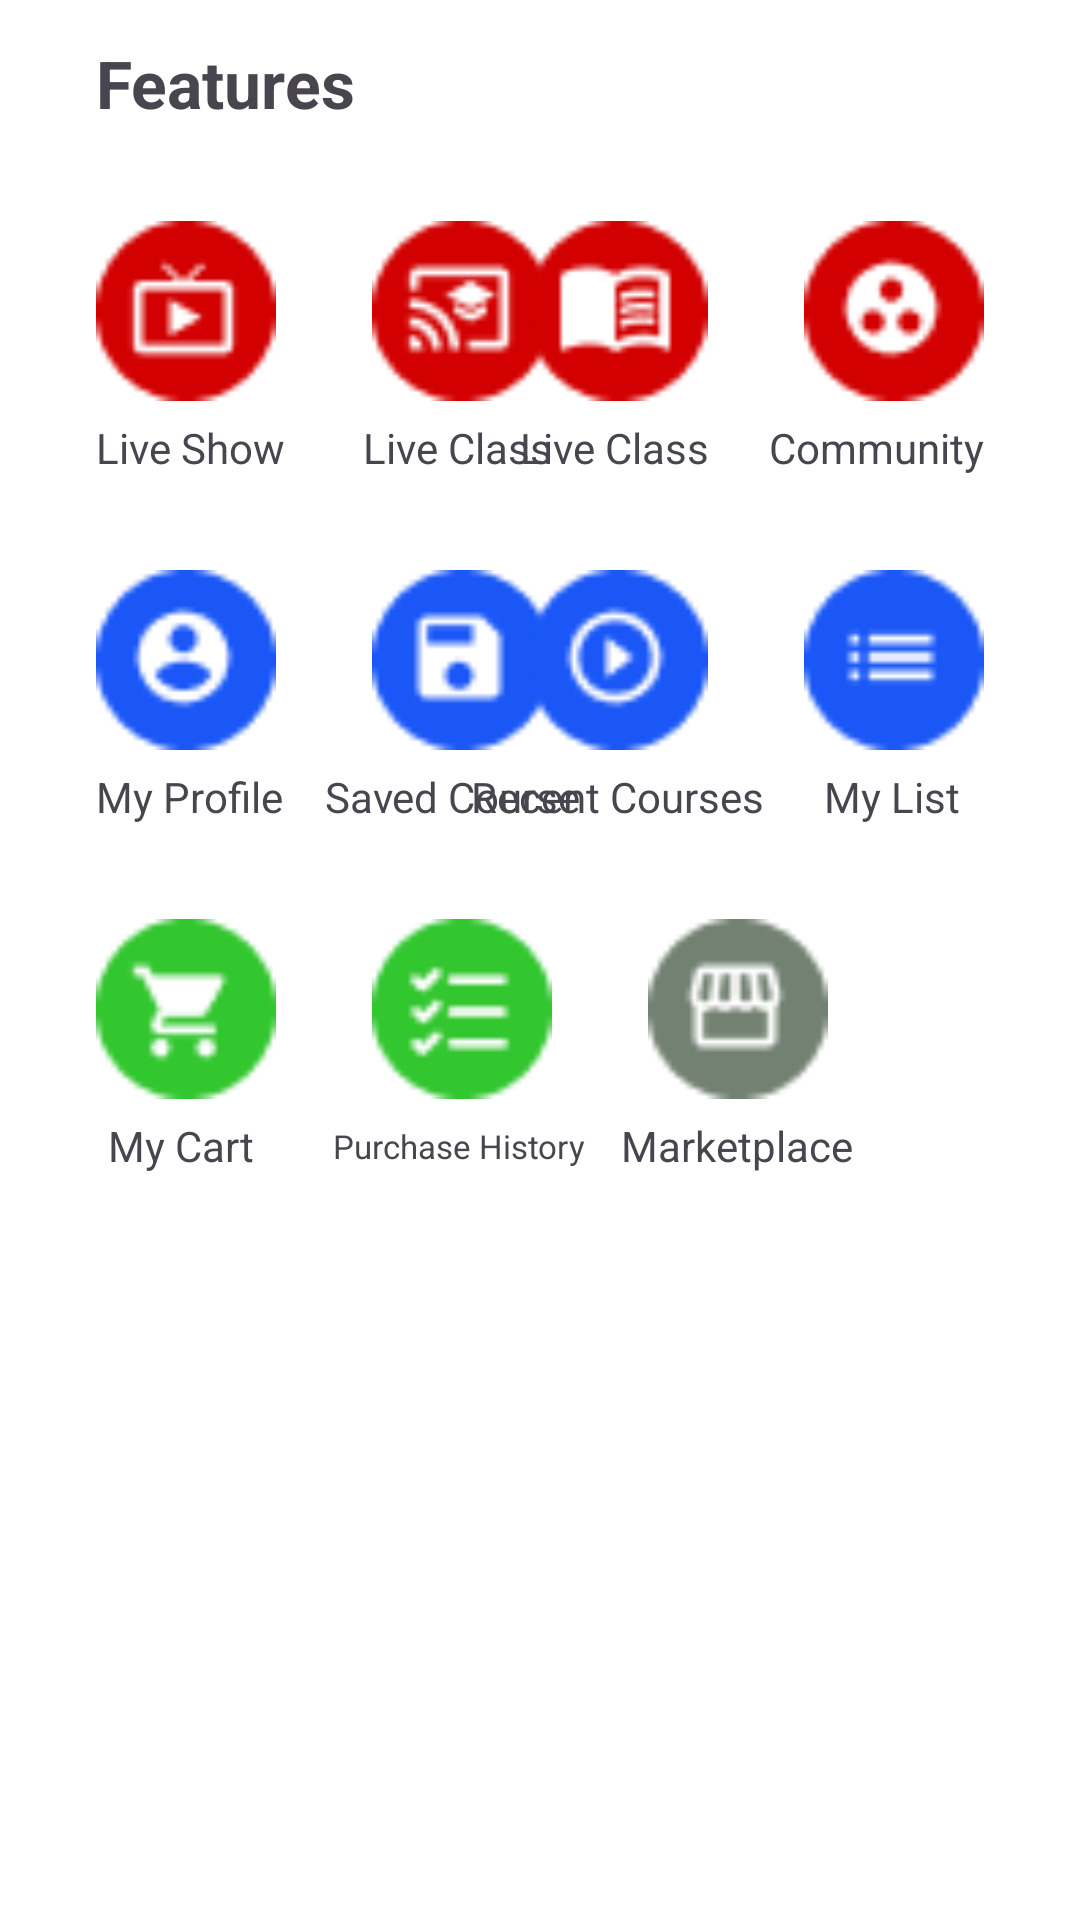

Where to tap for icons on this 1080*1920 app screen, as (x=x, y=y):
ecourse: (x=618, y=311)
